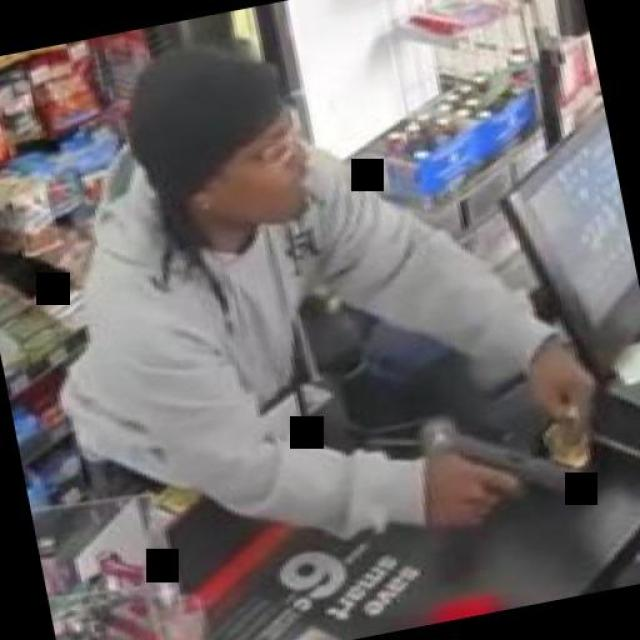gun: (414, 408, 585, 528)
